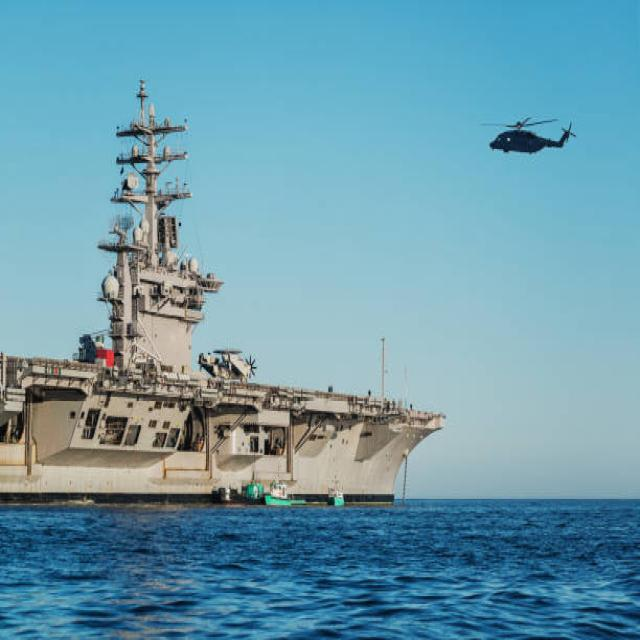Military: (0, 82, 438, 508)
